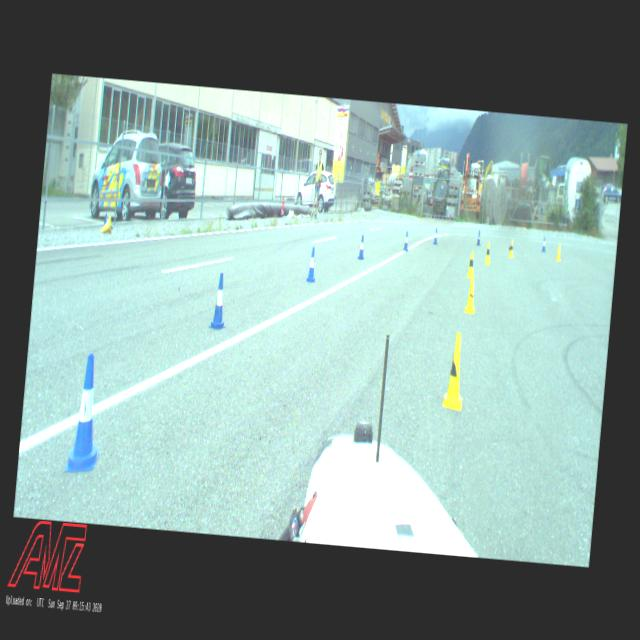blue_cone: (64, 352, 108, 474), (208, 272, 230, 328), (306, 246, 318, 282), (358, 235, 366, 259), (402, 231, 408, 250), (433, 227, 438, 243), (541, 236, 546, 252), (476, 230, 481, 244)
yellow_cone: (442, 332, 468, 410), (463, 274, 478, 314), (467, 251, 474, 277), (484, 242, 491, 264), (508, 240, 514, 258), (556, 243, 562, 261)
